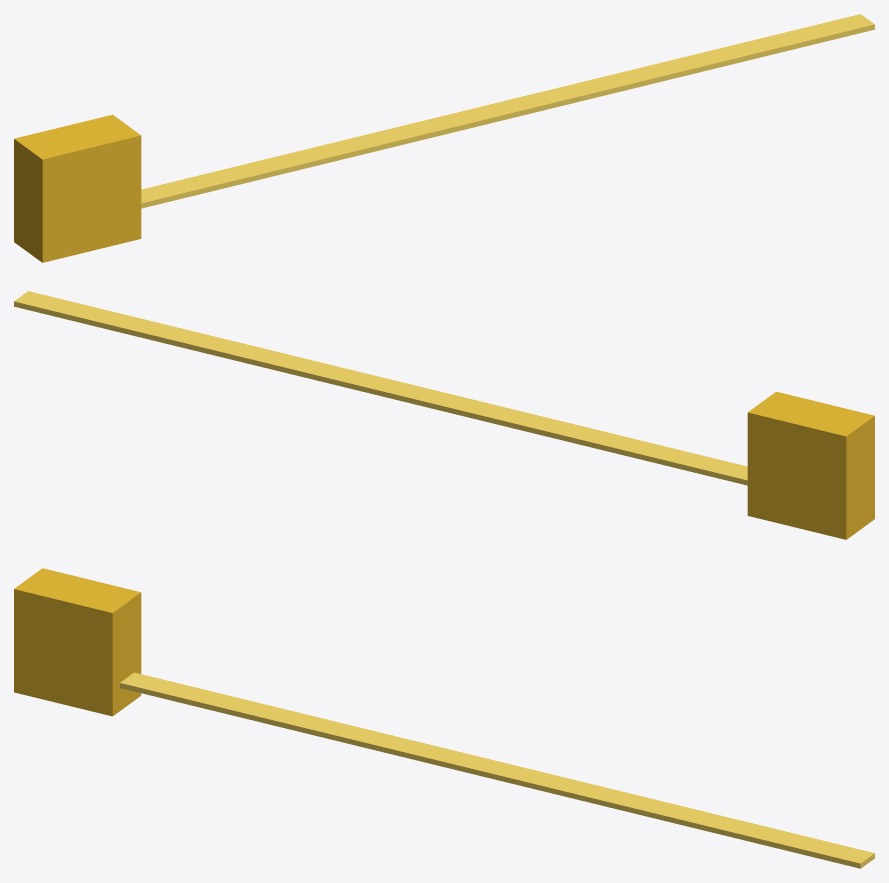
File: tape_measure.glb
3 renders of one model, top to bottom at view 1: azimuth 30°, elevation 25°; view 2: azimuth 150°, elevation 25°; view 3: azimuth 330°, elevation 25°, orthographic.
Parts seen in each view (by area): view 1: tape_measure; view 2: tape_measure; view 3: tape_measure.
Boxes of the visible parts, x1,y1,x2,y2 form: tape_measure: (14, 14, 874, 262); tape_measure: (14, 291, 874, 539); tape_measure: (14, 568, 874, 868).
Bounding box in the file's own units: 0.68 × 0.08 × 0.04.
